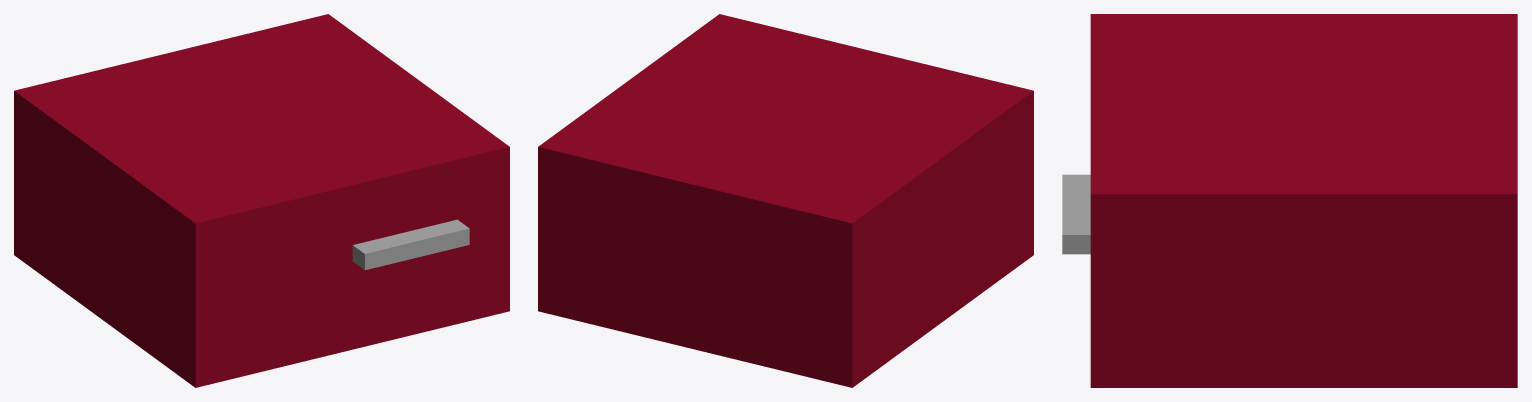
File: Cabinet_2_Top.fbx
3 renders of one model, left to right at view 1: azimuth 30°, elevation 25°; view 2: azimuth 150°, elevation 25°; view 3: azimuth 270°, elevation 25°, orthographic. The views are drawn at different scales.
Parts seen in each view (by area): view 1: cabinet-kitchen-top; view 2: cabinet-kitchen-top; view 3: cabinet-kitchen-top.
Boxes of the visible parts, x1=… form: cabinet-kitchen-top: x1=14, y1=14, x2=509, y2=387; cabinet-kitchen-top: x1=538, y1=14, x2=1033, y2=387; cabinet-kitchen-top: x1=1062, y1=14, x2=1517, y2=387.
Bounding box in the file's own units: 60 × 30 × 64.
